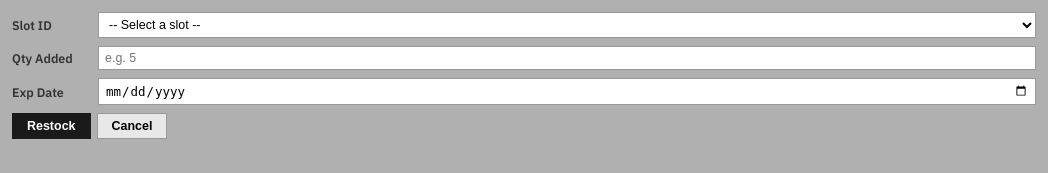
RestockForm › shows network error inline when request fails
This screenshot has width=1048, height=173.
Select "A2 - Trail Mix" in the dropdown labelled "Slot ID" at [567, 25], box [98,12,1036,38]
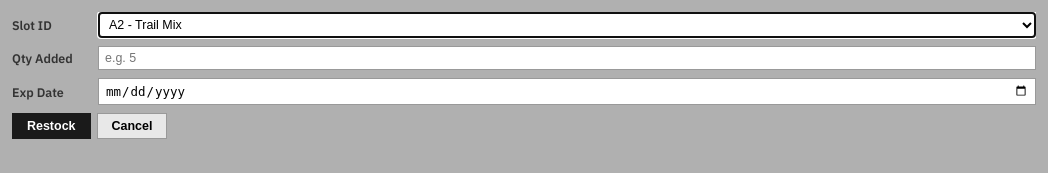
Type "1" into the number field labelled "Qty Added" at [567, 58], box [98,46,1036,70]
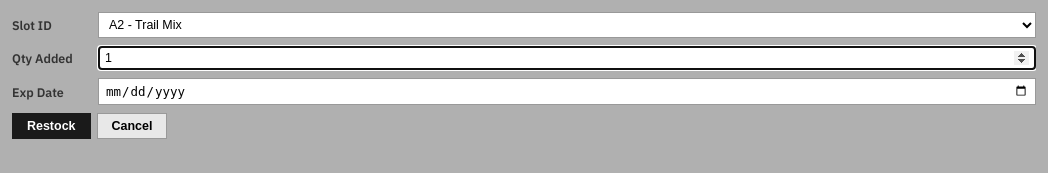
Type "2026-12-01" into the date field labelled "Exp Date" at [567, 92], box [98,78,1036,105]
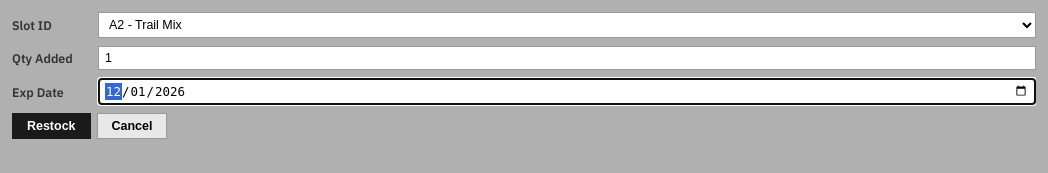
Click the button "Restock" at [51, 126], box [12,113,90,139]
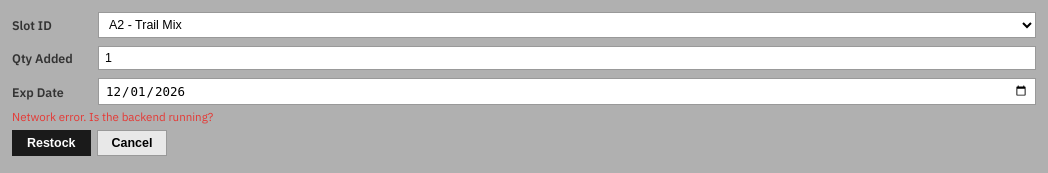
expect the text "Network error. Is the backend running?" is shown: met, box [12,109,213,124]
